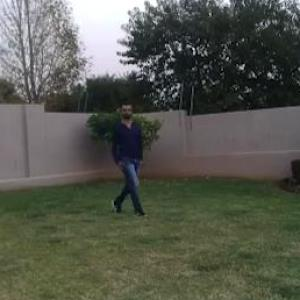follow: (114, 104, 145, 212)
